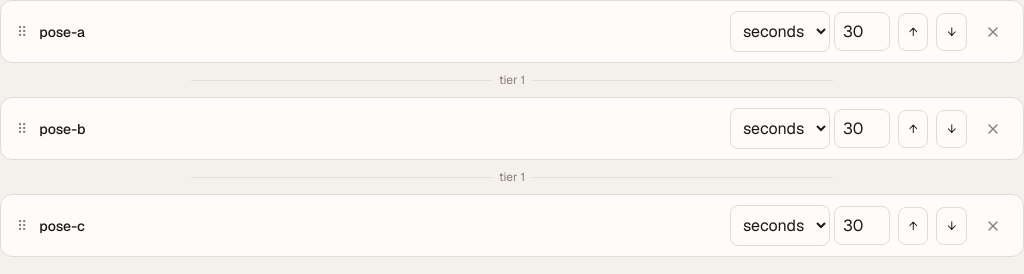
Scenario: scroll position across a button reorder (FR-035, T048) › is unchanged, and nothing scrolls the window, after clicking a reorder button
(page scrolled)
Click the button with test id "compose-item-reorder-down-0" at (952, 32), box [936,12,967,50]
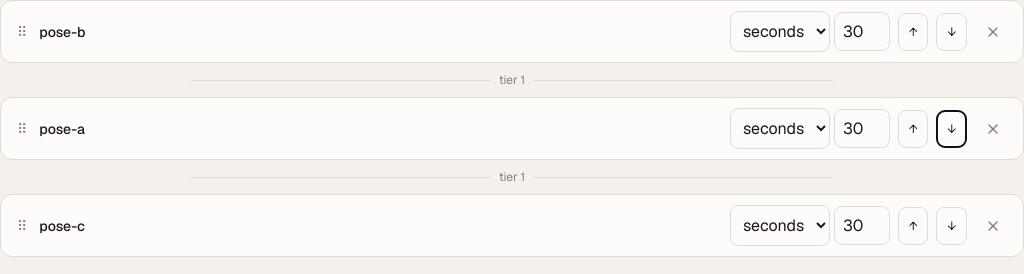
Expected: the element with test id "compose-row-0" is shown, [0,0,1023,63]
